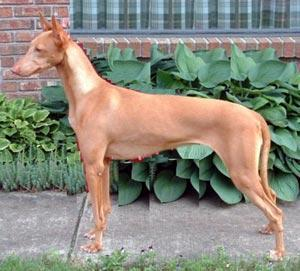Ibizan_hound: (8, 12, 285, 263)
